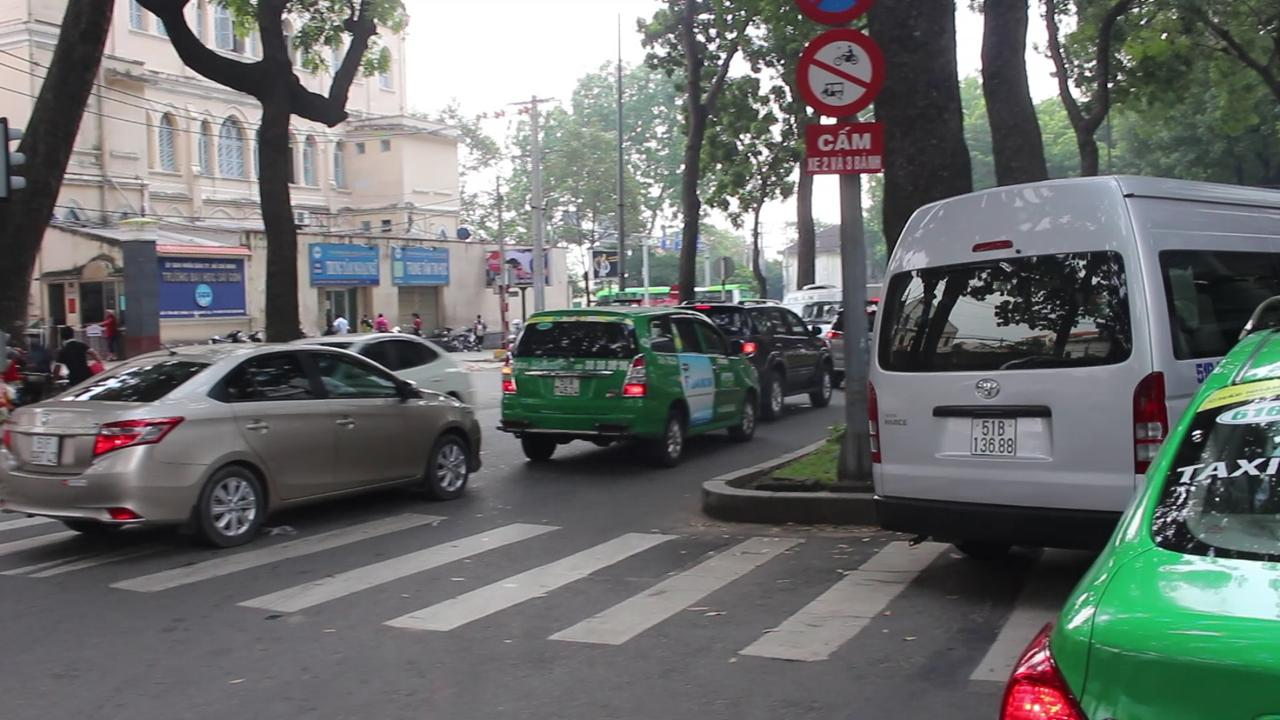P.103a: (792, 0, 872, 26)
